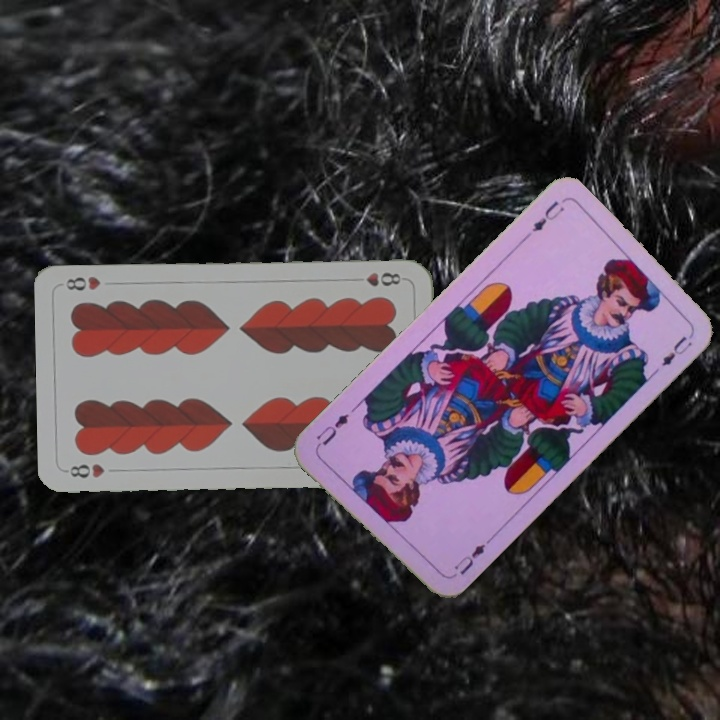EU: (519, 196, 568, 244), (449, 536, 493, 578)
H8: (349, 269, 404, 289), (62, 459, 107, 480)
